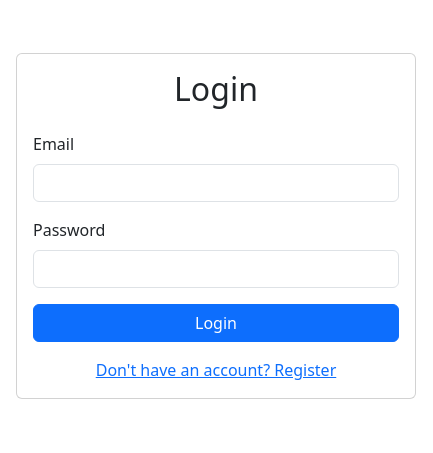
Test case: Login Component › displays error message on login failure
The width and height of the screenshot is (433, 453).
Type "test@example.com" into the field labelled "Email" at [216, 183], box x1=33 y1=164 x2=399 y2=202
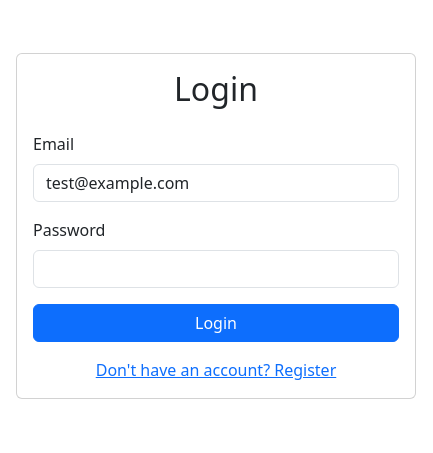
Type "wrongpassword" into the password field labelled "Password" at [216, 269], box x1=33 y1=250 x2=399 y2=288
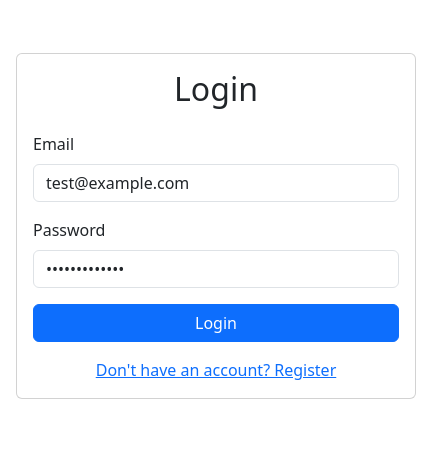
Click the button "Login" at [216, 323], box x1=33 y1=304 x2=399 y2=342
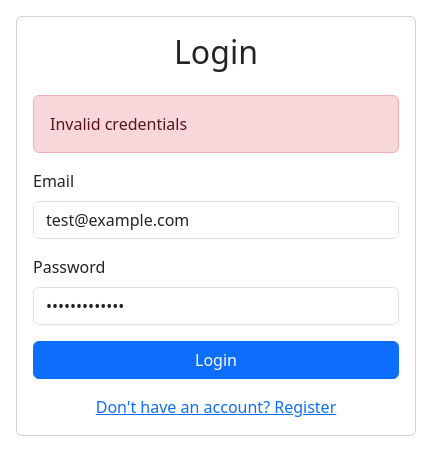
Now the text "Invalid credentials" is shown, box x1=33 y1=95 x2=399 y2=153
